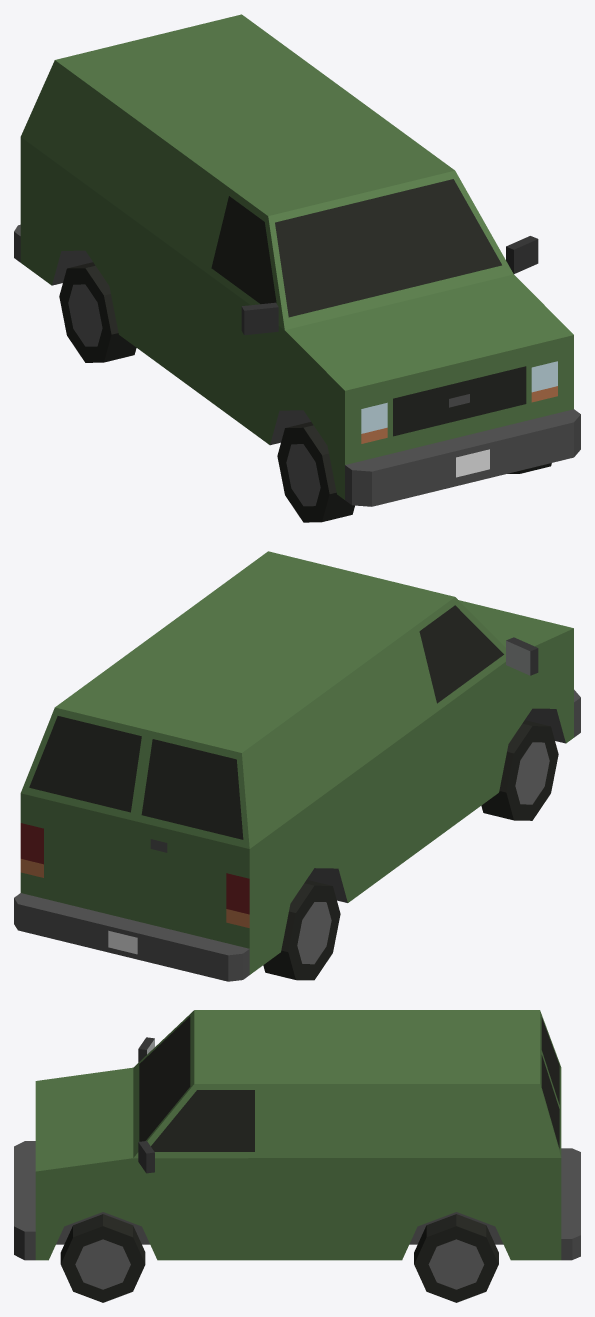
The model's file is Veh_Van_01_Green.glb.
3 views of the same model, one above another, from view 1: azimuth 30°, elevation 25°; view 2: azimuth 150°, elevation 25°; view 3: azimuth 270°, elevation 25° (orthographic). The views are drawn at different scales.
Visible parts, largest first — view 1: Van_01_Green, Wheel_FR, Wheel_RR; view 2: Van_01_Green, Wheel_RR, Wheel_FR; view 3: Van_01_Green, Wheel_FL, Wheel_RL.
Part boxes in pixels (<box>): Van_01_Green: <box>14,14,580,506</box>; Wheel_FR: <box>277,422,354,522</box>; Wheel_RR: <box>59,262,136,362</box>; Van_01_Green: <box>14,551,580,981</box>; Wheel_RR: <box>263,879,340,980</box>; Wheel_FR: <box>481,720,558,820</box>; Van_01_Green: <box>14,1010,580,1260</box>; Wheel_FL: <box>60,1214,145,1302</box>; Wheel_RL: <box>414,1214,498,1302</box>.
Bounding box in the file's own units: 1.38 × 1.16 × 2.84.
1 material, 1 textured.
